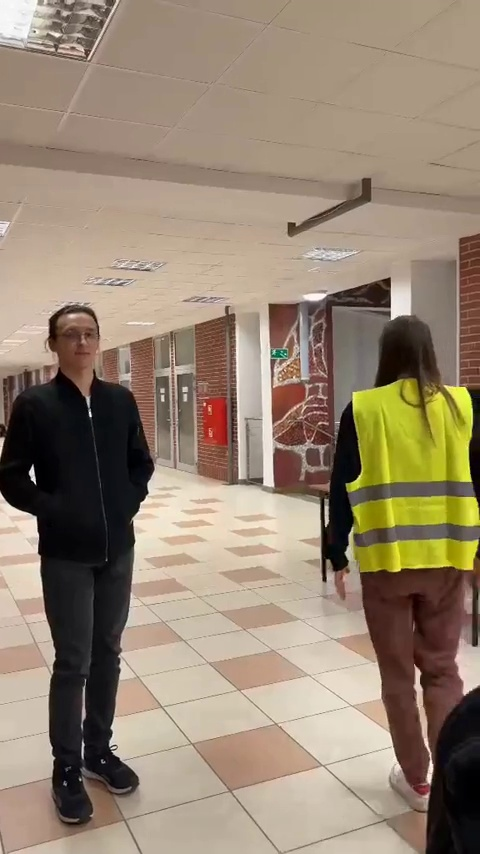no vest: (6, 298, 177, 834)
vest: (322, 310, 480, 812)
